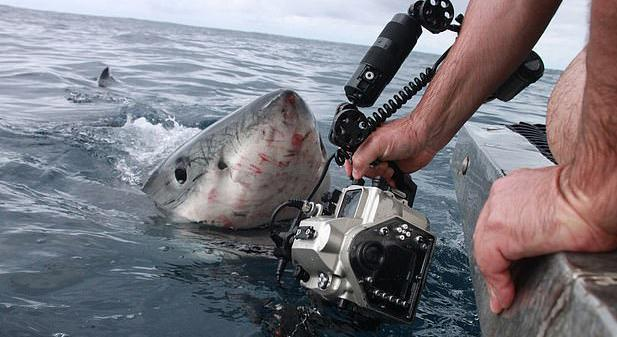shark: (124, 72, 341, 250)
